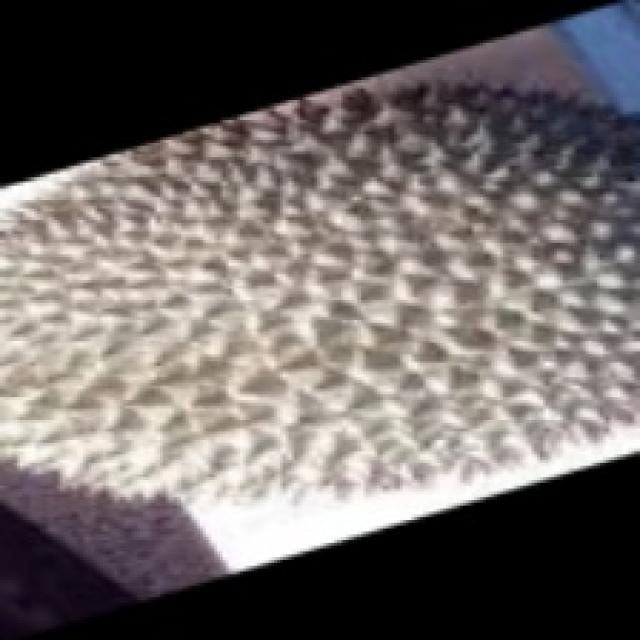d2: (12, 102, 640, 476)
